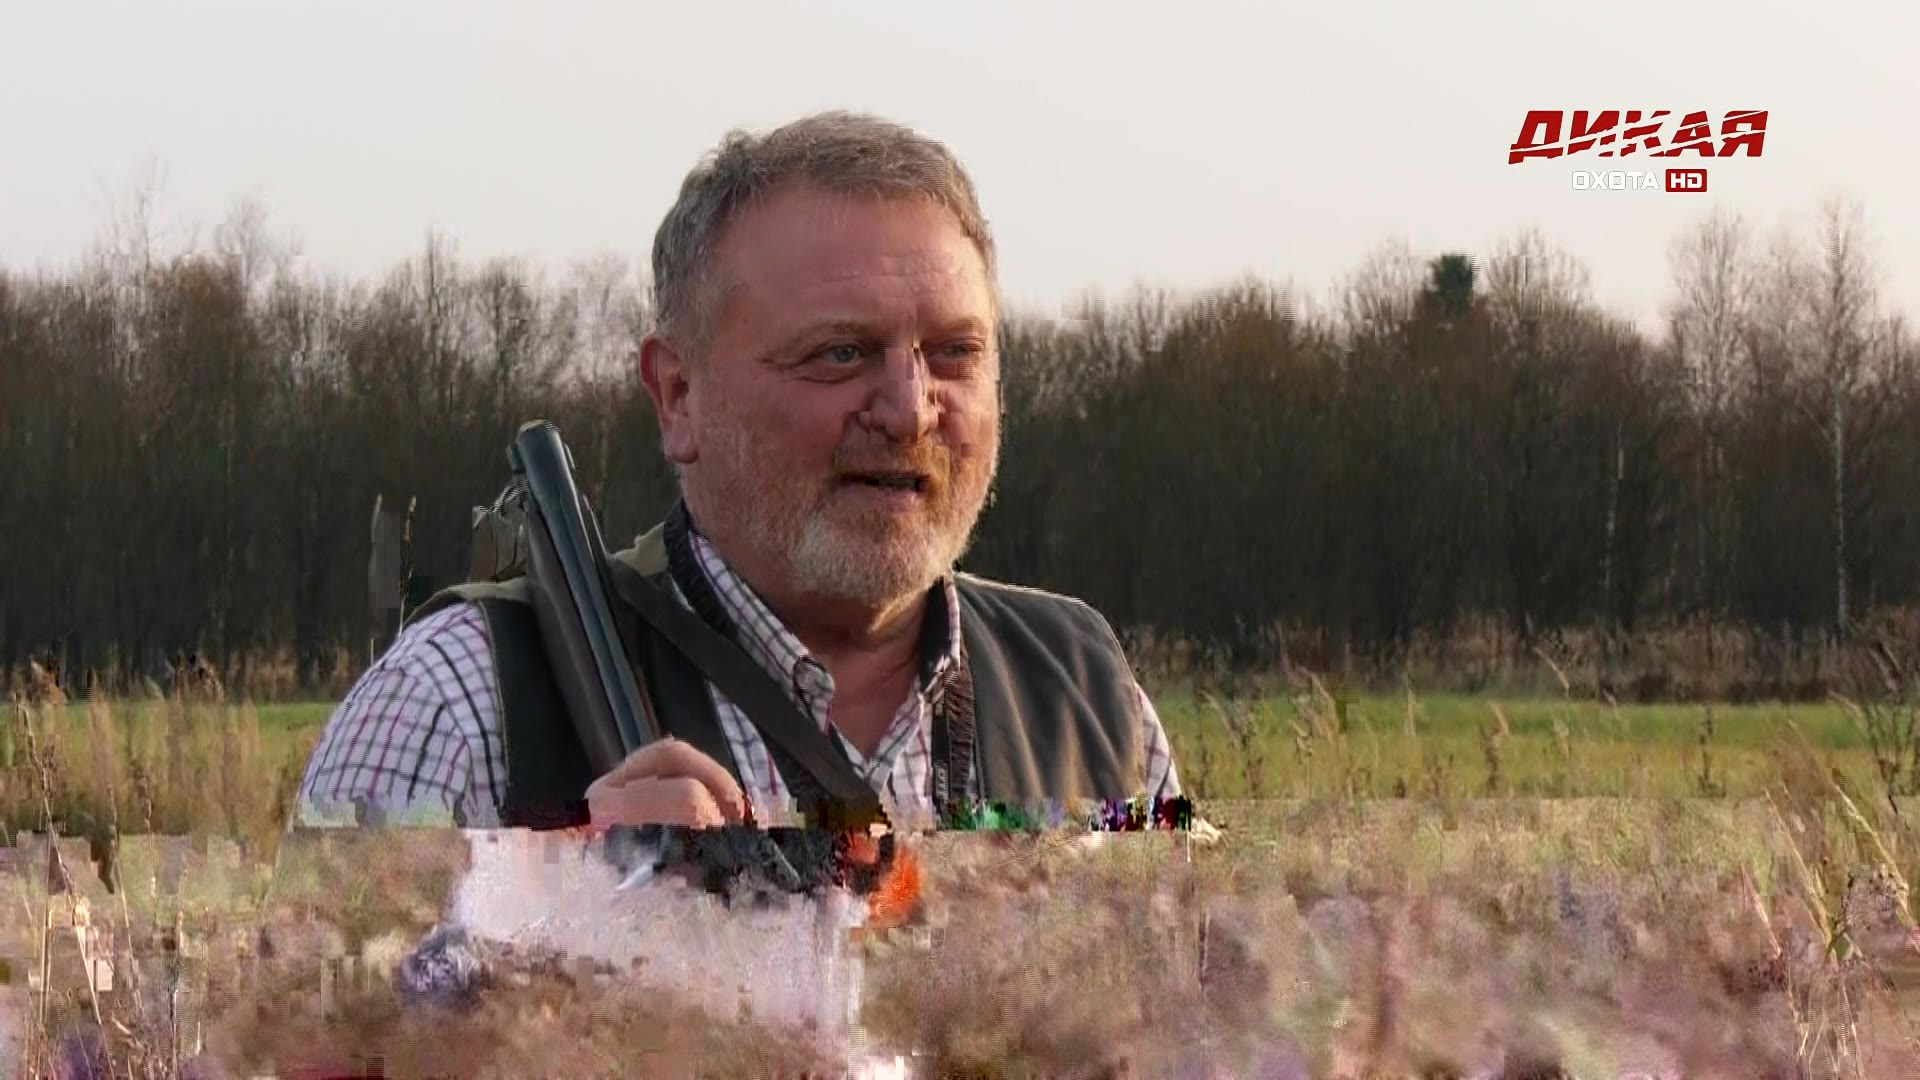Dikaya_Ohota_HD: (1505, 105, 1775, 195)
